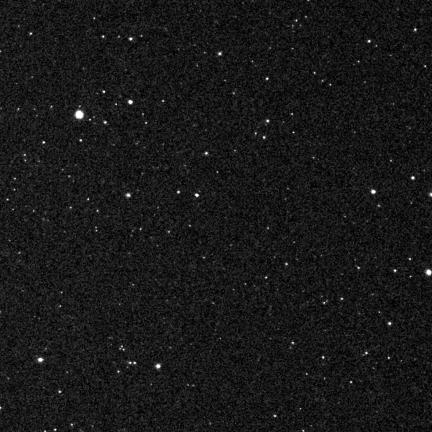blob: (75, 111, 83, 119), (38, 358, 43, 363), (128, 100, 133, 105)
